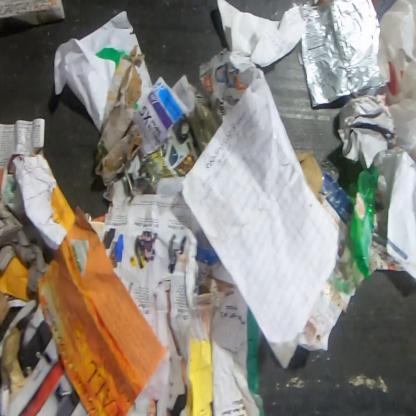cardboard: (98, 44, 146, 191), (294, 153, 323, 198)
rigid_plastic: (350, 165, 380, 277), (318, 155, 354, 238)
soft_plastic: (358, 0, 415, 206), (300, 0, 393, 106)
